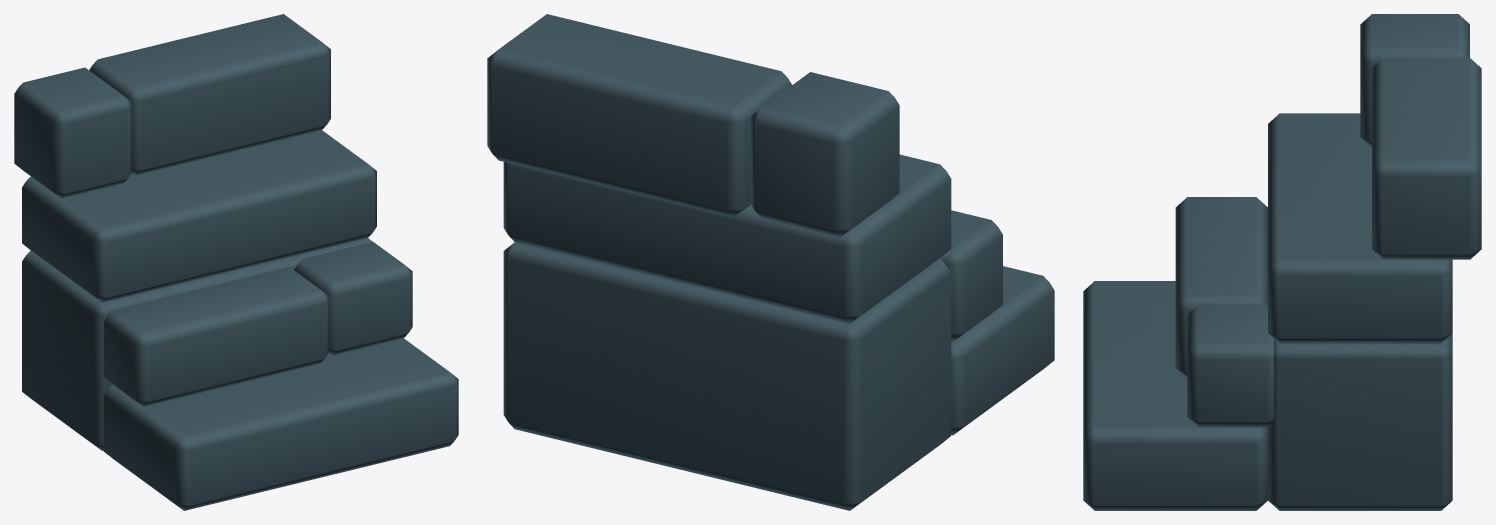
File: stair_straight_2_hue_3.fbx
The picture shows the model from 3 angles, left to right: view 1: azimuth 30°, elevation 25°; view 2: azimuth 150°, elevation 25°; view 3: azimuth 270°, elevation 25°; orthographic projection. The views are drawn at different scales.
Parts seen in each view (by area): view 1: stair_straight_2_hue_3; view 2: stair_straight_2_hue_3; view 3: stair_straight_2_hue_3.
Boxes of the visible parts, <box> form: stair_straight_2_hue_3: <box>14,14,458,510</box>; stair_straight_2_hue_3: <box>487,14,1054,510</box>; stair_straight_2_hue_3: <box>1083,14,1481,510</box>.
Bounding box in the file's own units: 100 × 105 × 108.
